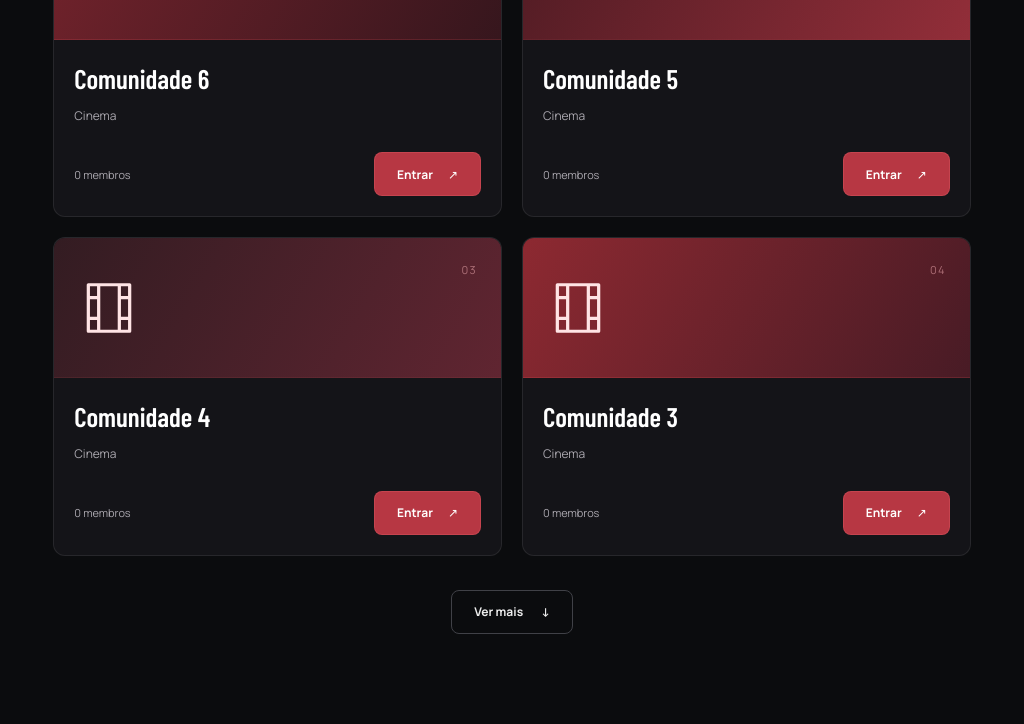
Scenario: mostra as quatro mais vistas e revela mais comunidades sem abrir a conversa
(page scrolled)
Click the button "Ver mais ↓": (512,612) [451,590,573,634]
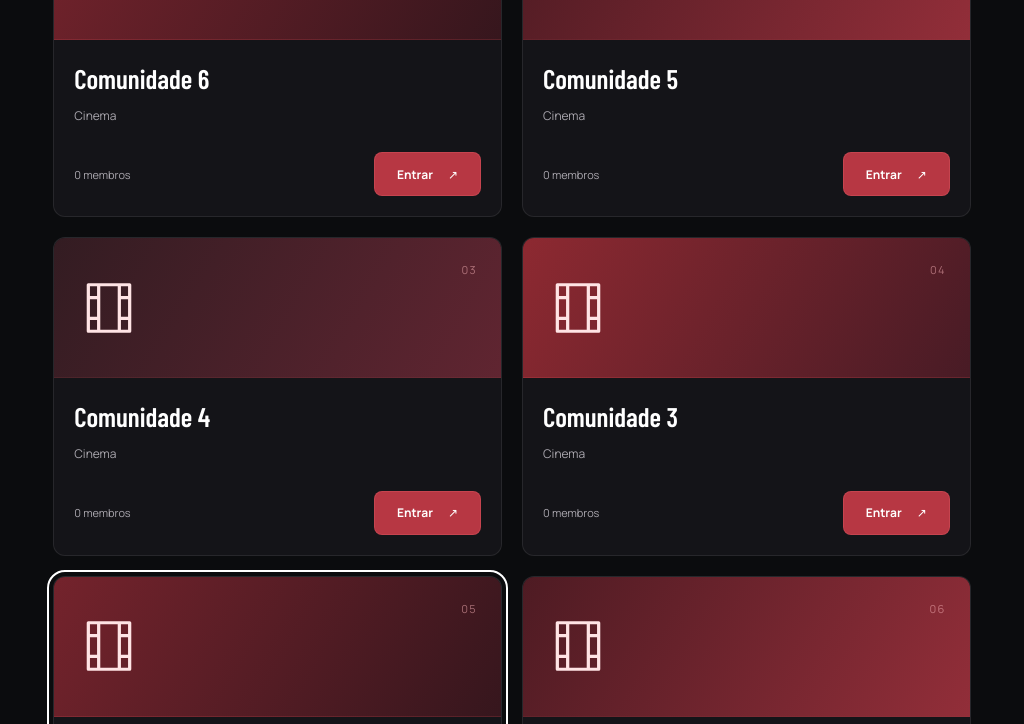
Expected: the number of buttons named "Entrar em" is 7
Expected: the button "Ver mais" is gone
